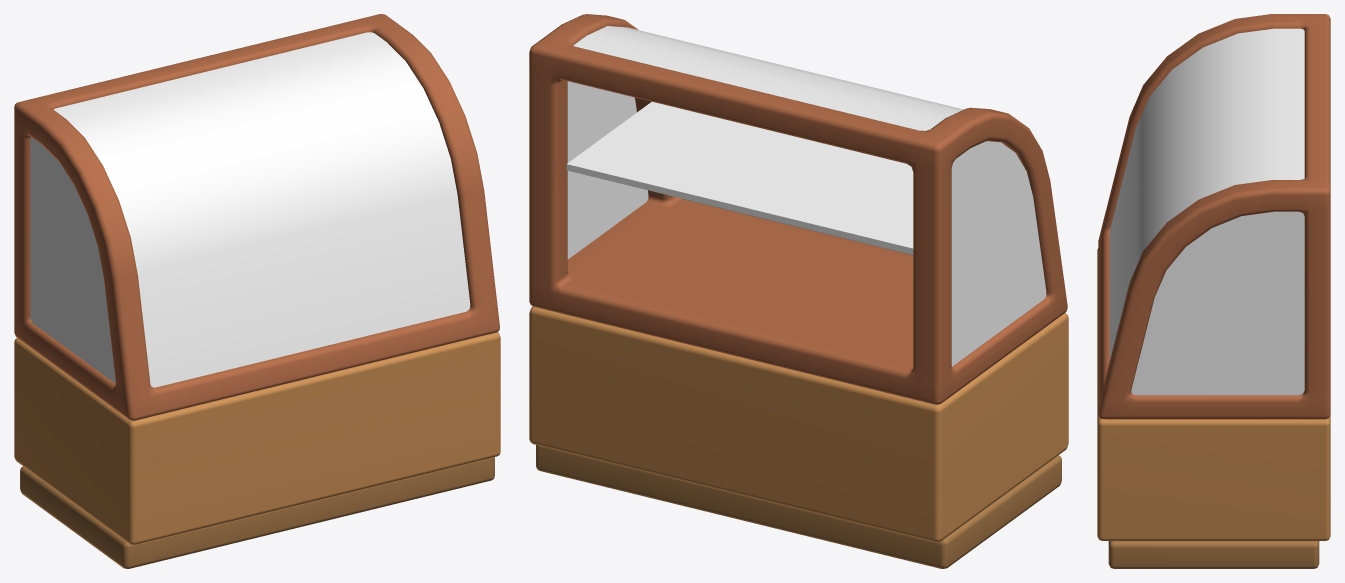
The model's file is SM_showcase_cabinet.glb.
The picture shows the model from 3 angles, left to right: view 1: azimuth 30°, elevation 25°; view 2: azimuth 150°, elevation 25°; view 3: azimuth 270°, elevation 25°; orthographic projection. The views are drawn at different scales.
Parts seen in each view (by area): view 1: SM_showcase_cabinet; view 2: SM_showcase_cabinet; view 3: SM_showcase_cabinet.
Part boxes in pixels (x1,y1,x2,y2): SM_showcase_cabinet: (14,14,500,568); SM_showcase_cabinet: (529,14,1068,568); SM_showcase_cabinet: (1097,14,1330,568).
Size of the model in its own units: 1.57 by 1.56 by 0.8681.
Materials: 2 (2 with a texture image).
